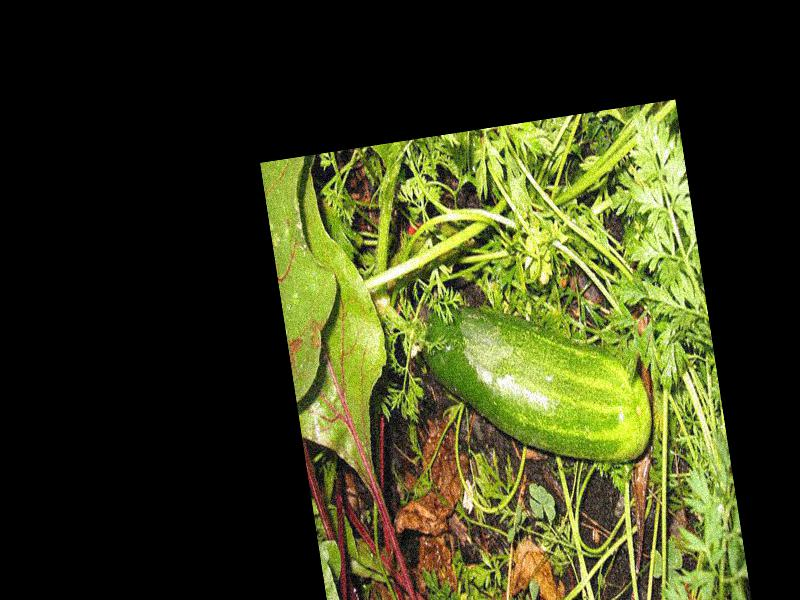Cucumber: (415, 272, 654, 490)
